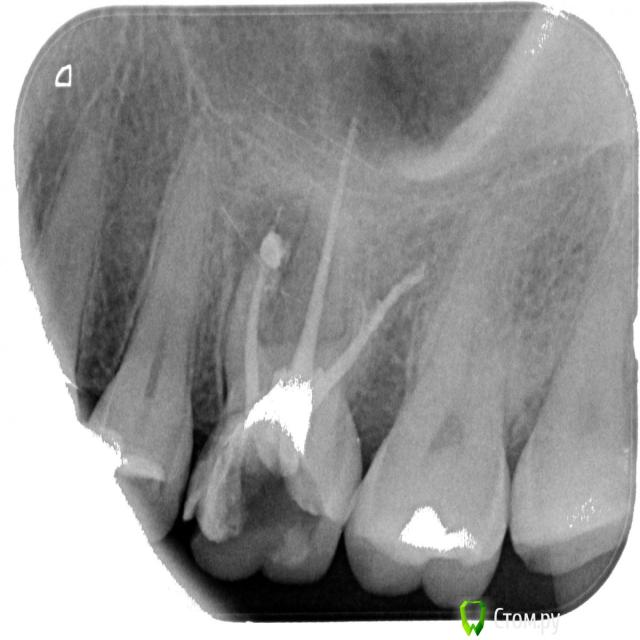Caries: (185, 172, 406, 591)
